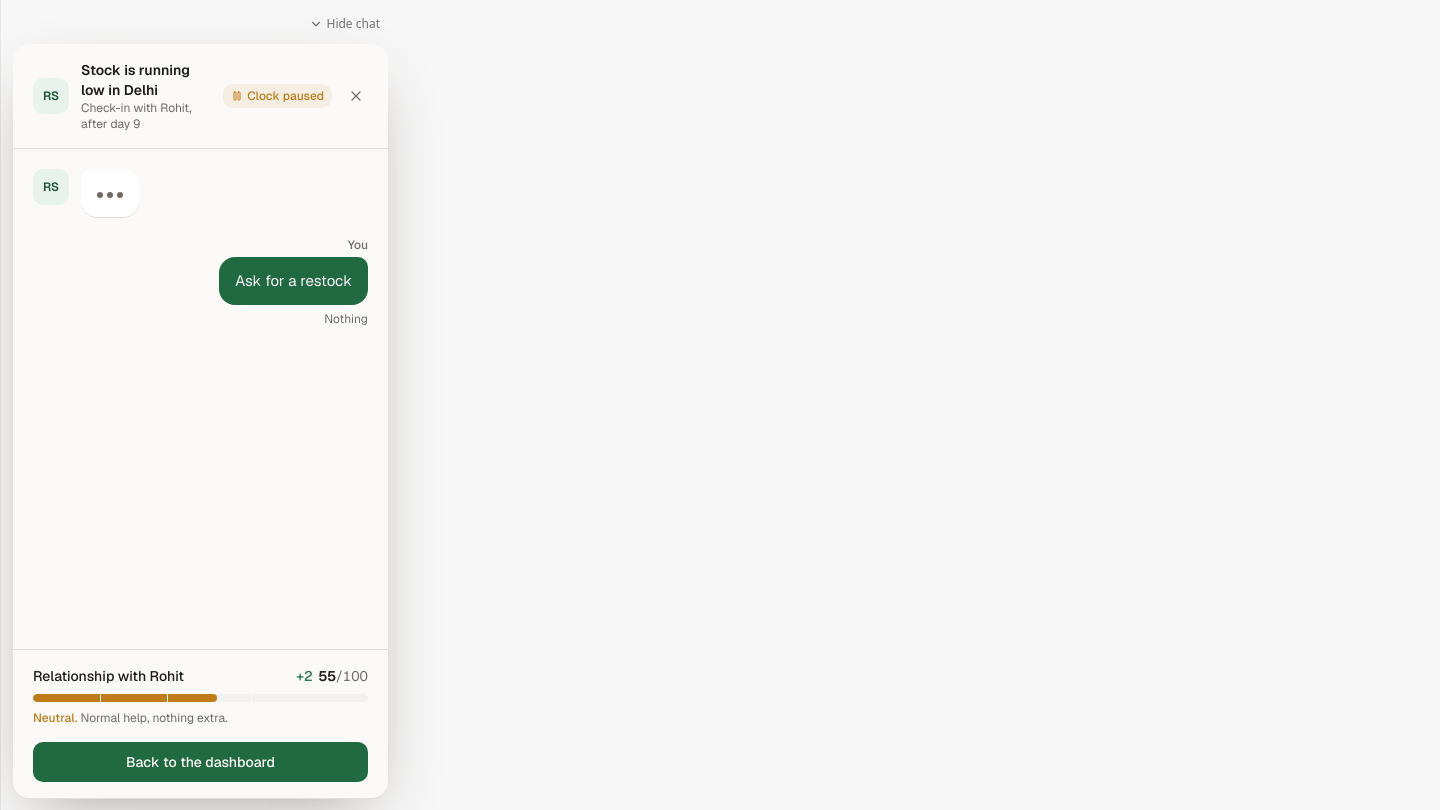
Scenario: RohitDock › keeps the student's reply after hiding and reopening
Click the button with aria-label "Hide Rohit" at (344, 24), box [300,12,388,36]
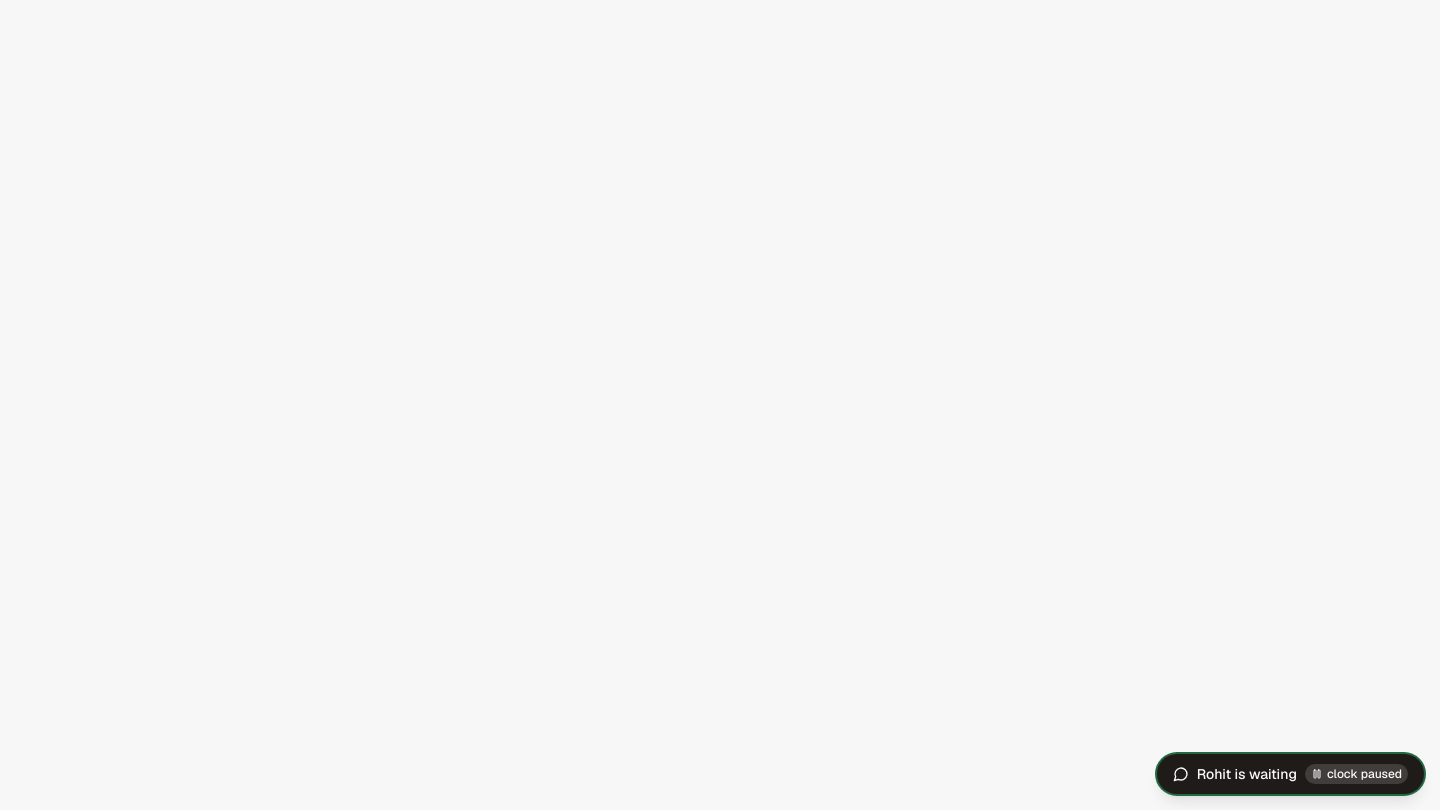
Click the button "Rohit is waiting clock paused" at (1290, 774), box [1157,754,1424,794]
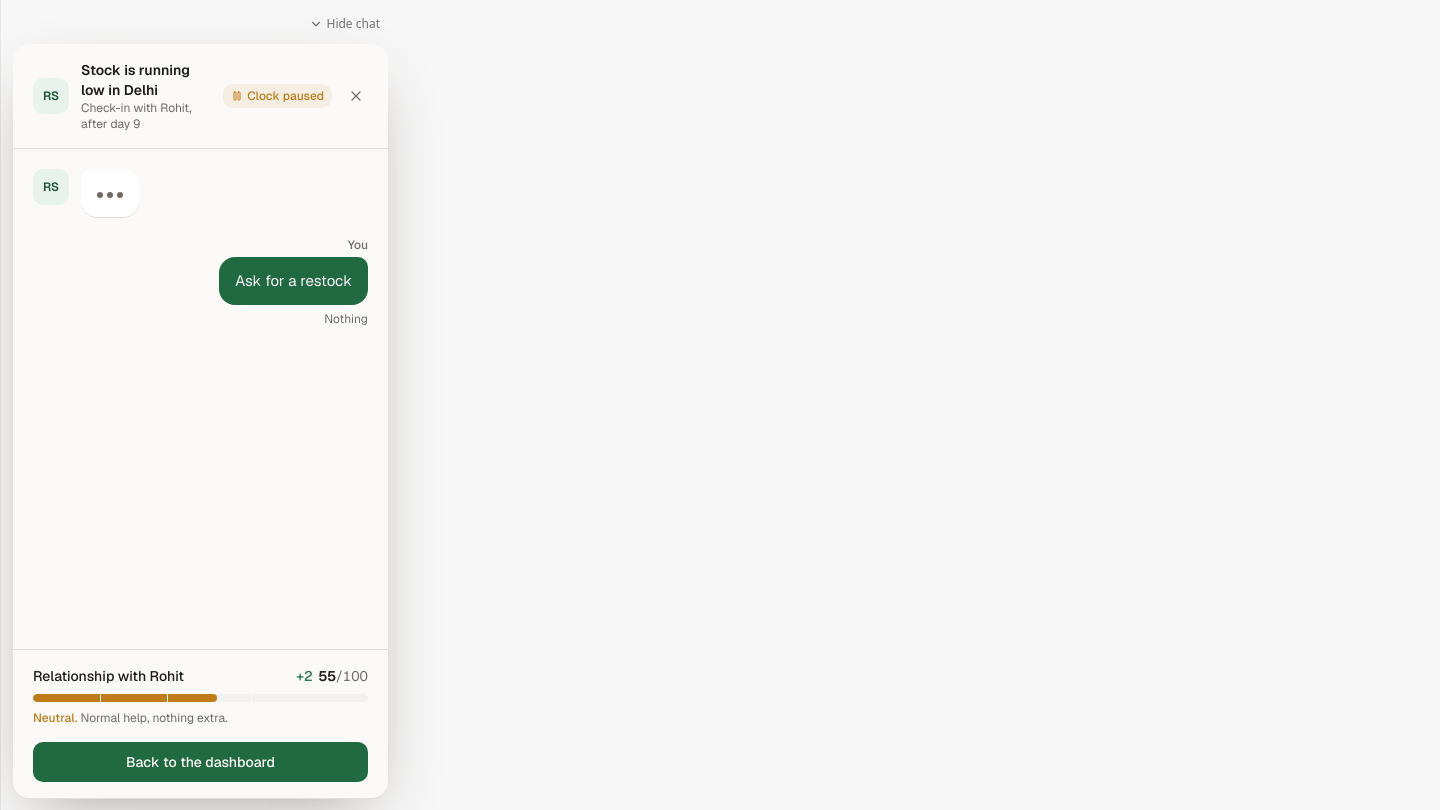
expect the text "Ask for a restock" is shown: met, box [235,269,352,293]
